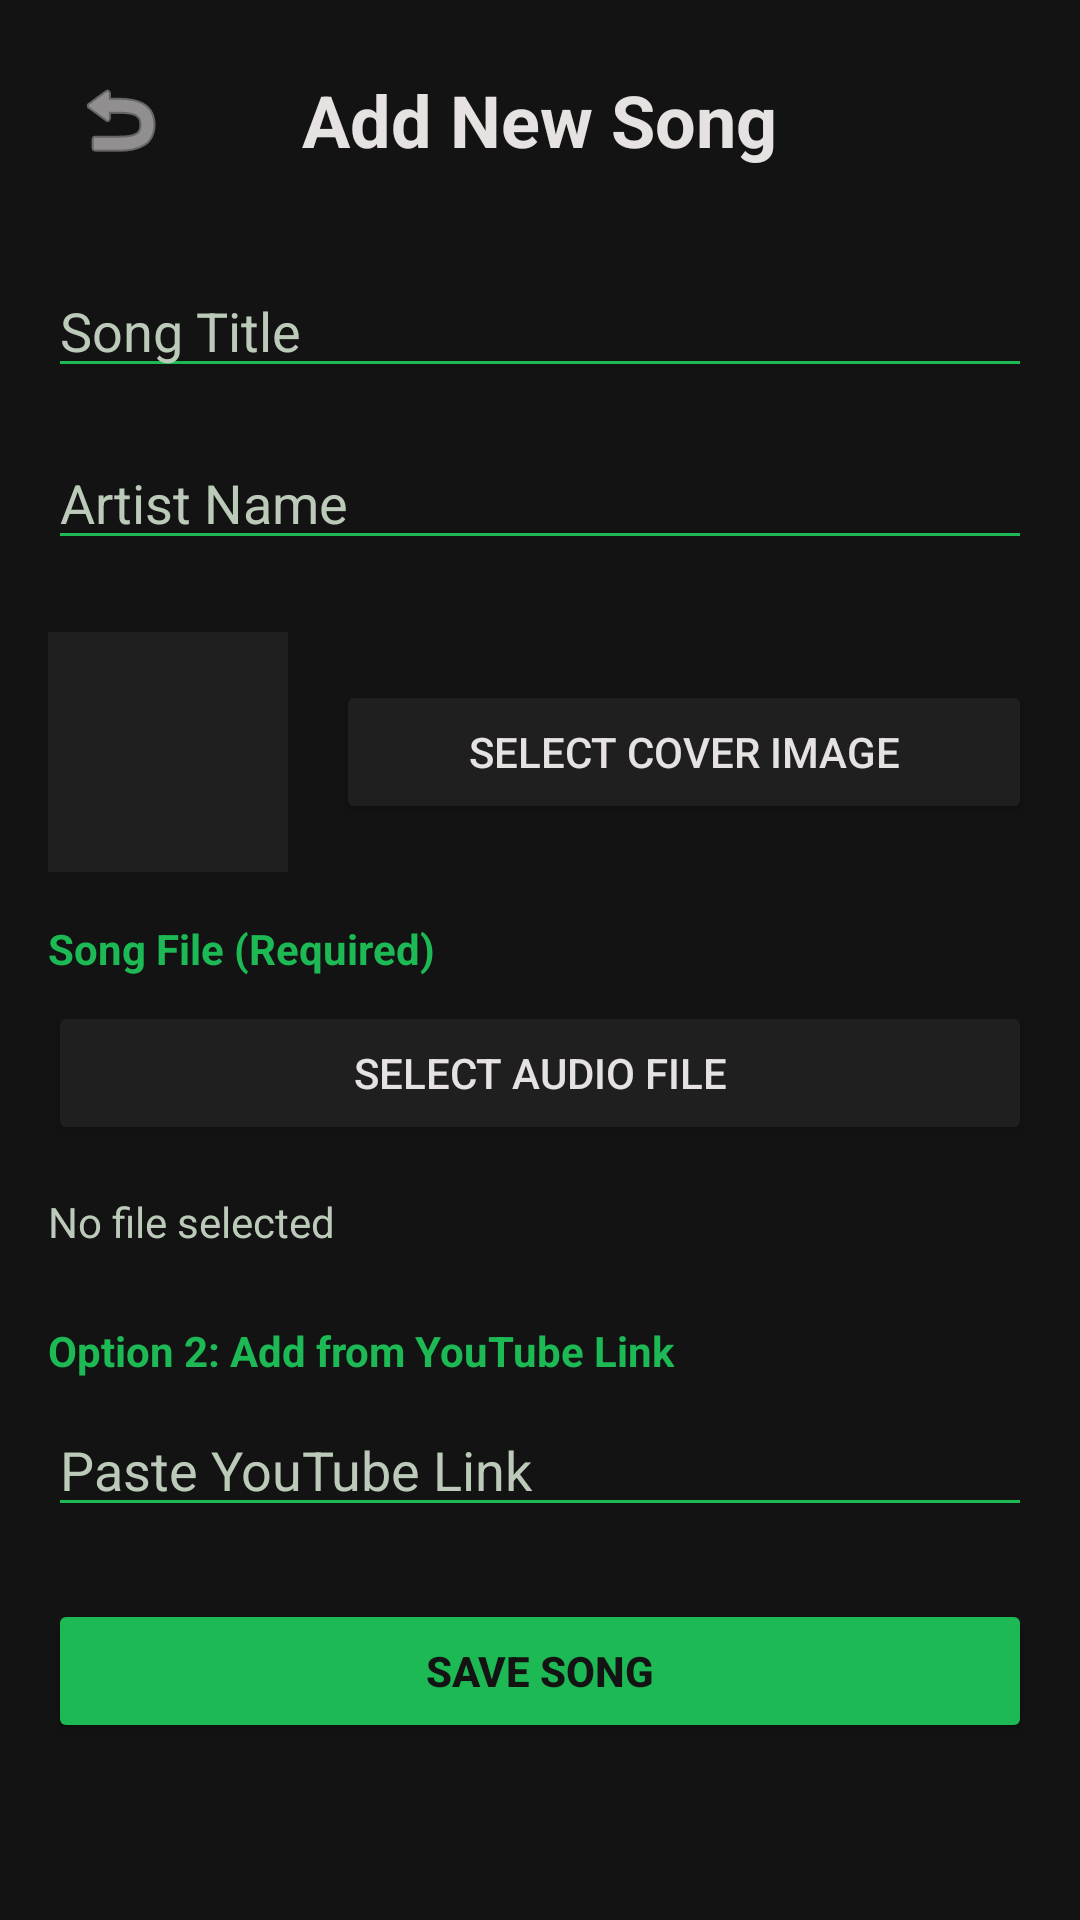

Where to tap for icons on this 1080*1920 app screen, as point (x, y):
Back: point (121, 120)
